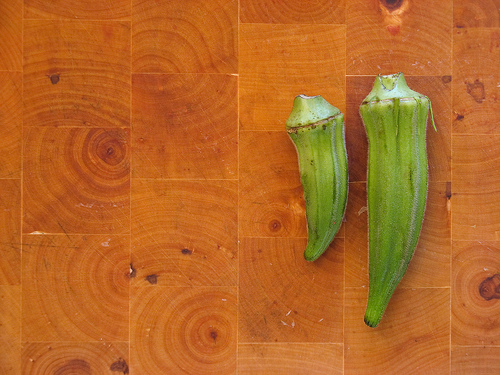okra: (356, 70, 439, 330), (280, 91, 352, 266)
